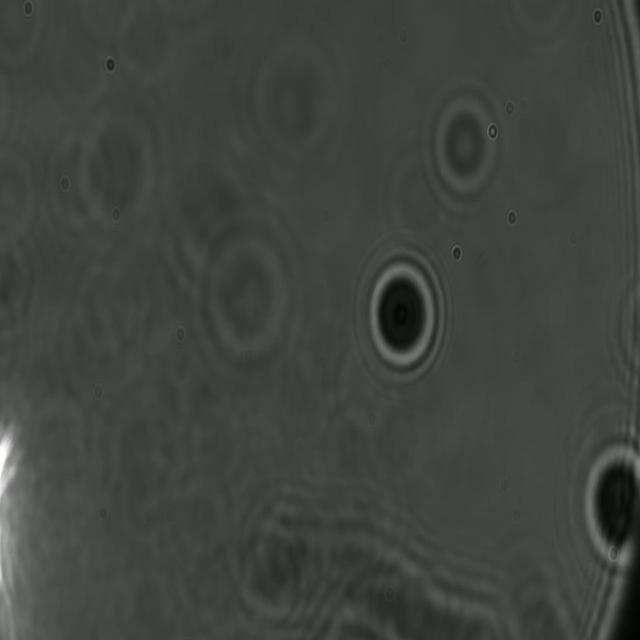DCELL: (362, 248, 447, 388)
